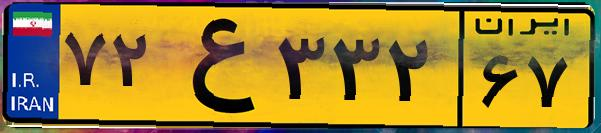2: (385, 28, 445, 110), (110, 28, 158, 98)
3: (270, 28, 330, 110), (330, 28, 385, 110)
6: (475, 38, 525, 113)
7: (57, 26, 110, 100), (525, 38, 570, 115)
ع: (158, 12, 270, 120)
